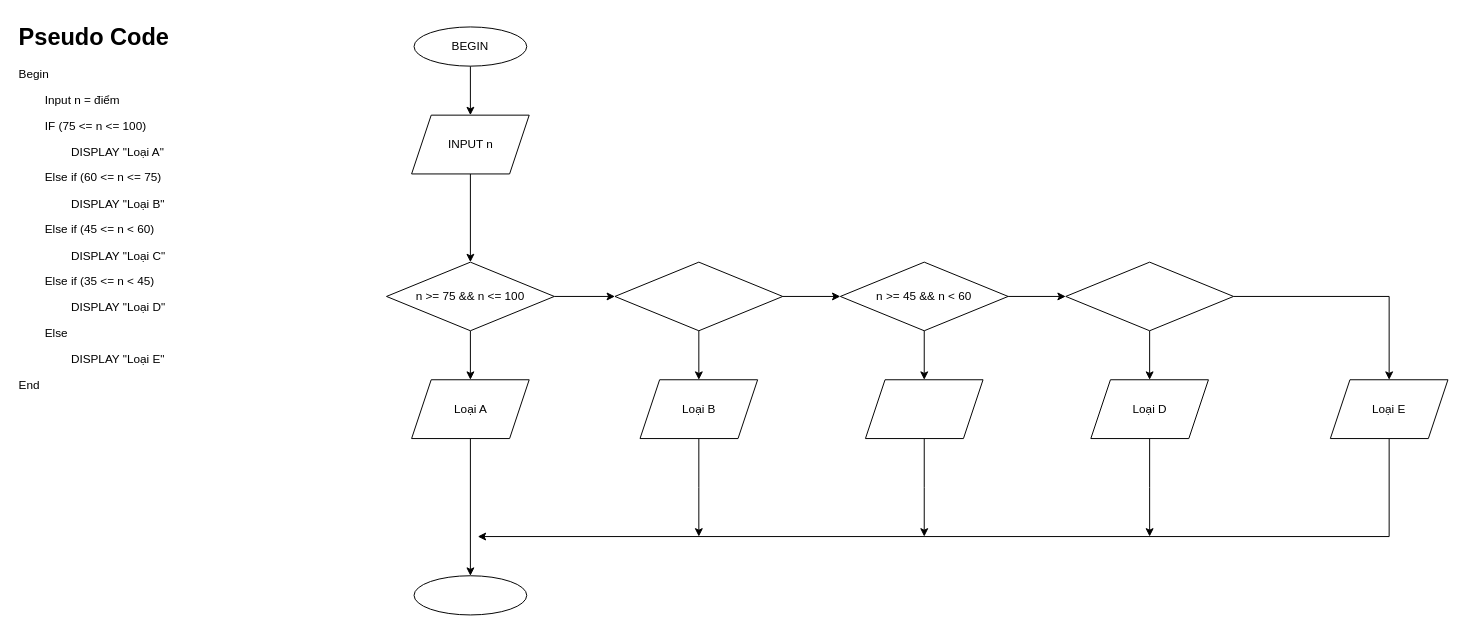
The diagram is 1465 pixels wide and 632 high, and some of its shapes have lost their labels. Here are the shapes that lost their labels. From the top down, the centre of each, then its label:
At [698,296]: "n >= 60 && n < 75".
At [1149,296]: "n >= 35 && n < 45".
At [923,409]: "Loại C".
At [470,595]: "END".
